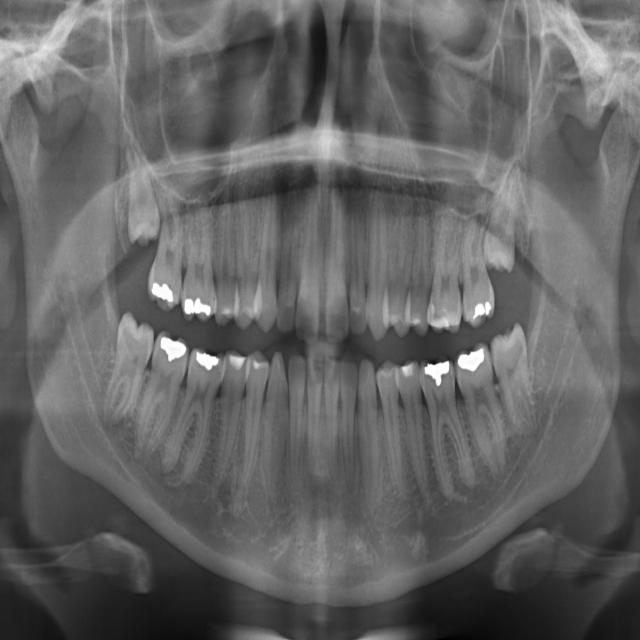AmalgamRestoration: (159, 334, 187, 366), (458, 346, 486, 375), (424, 358, 450, 388), (185, 294, 212, 319), (150, 282, 175, 306), (194, 349, 218, 371), (472, 300, 485, 324), (485, 297, 491, 315)
CompositeResinRestoration: (427, 297, 453, 331), (400, 361, 416, 379)
ImpactedTooth: (479, 168, 526, 281), (123, 149, 161, 244)
